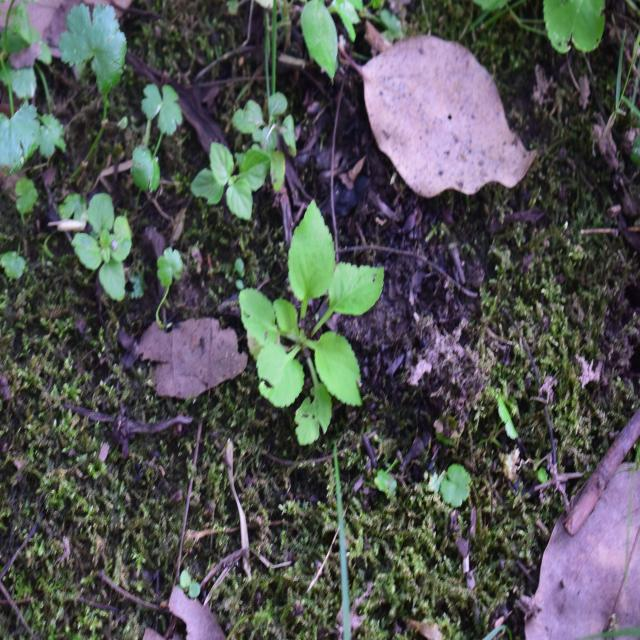Viola: (239, 229, 385, 439)
